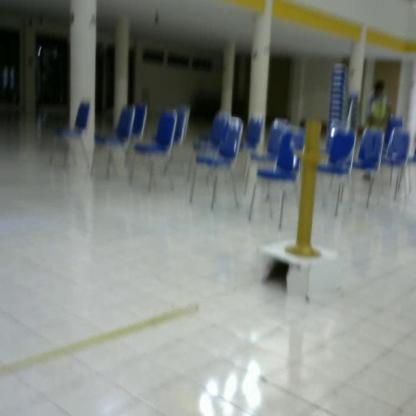pole: (276, 113, 333, 263)
